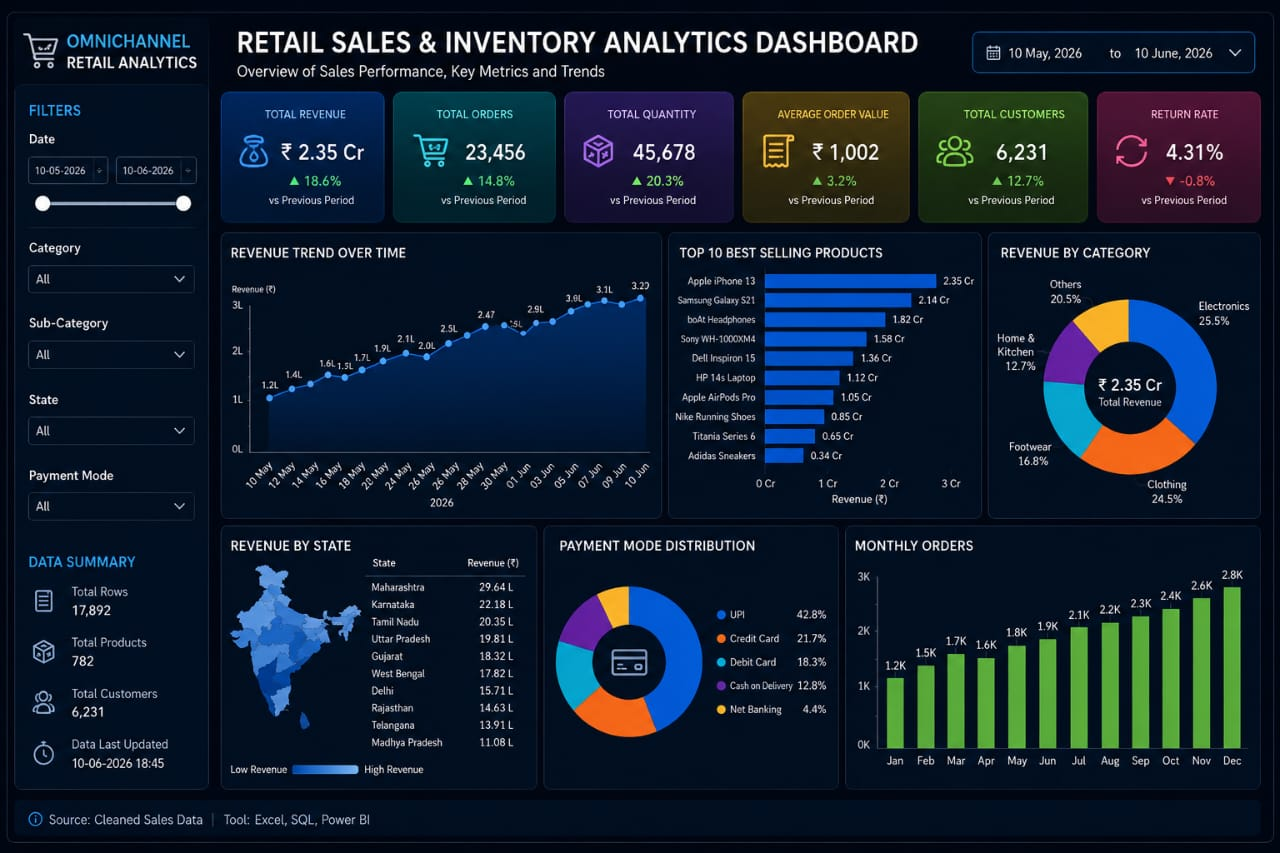

The dashboard page shown, as its layout file describes it:
{"tool":"powerbi","page":{"name":"Page 1","canvas":[1280,720],"ordinal":0},"visuals":[{"type":"image","box":[0,0,1279.9,710.8],"z":0}]}

Visuals, with their boxes on the page's 1280x720 design canvas (x1, y1, x2, y2). These are canvas units, not pixel positions in the 1280x853 screenshot, which may show the page scaled, cropped or inside an application window:
image: (x1=0, y1=0, x2=1280, y2=711)
